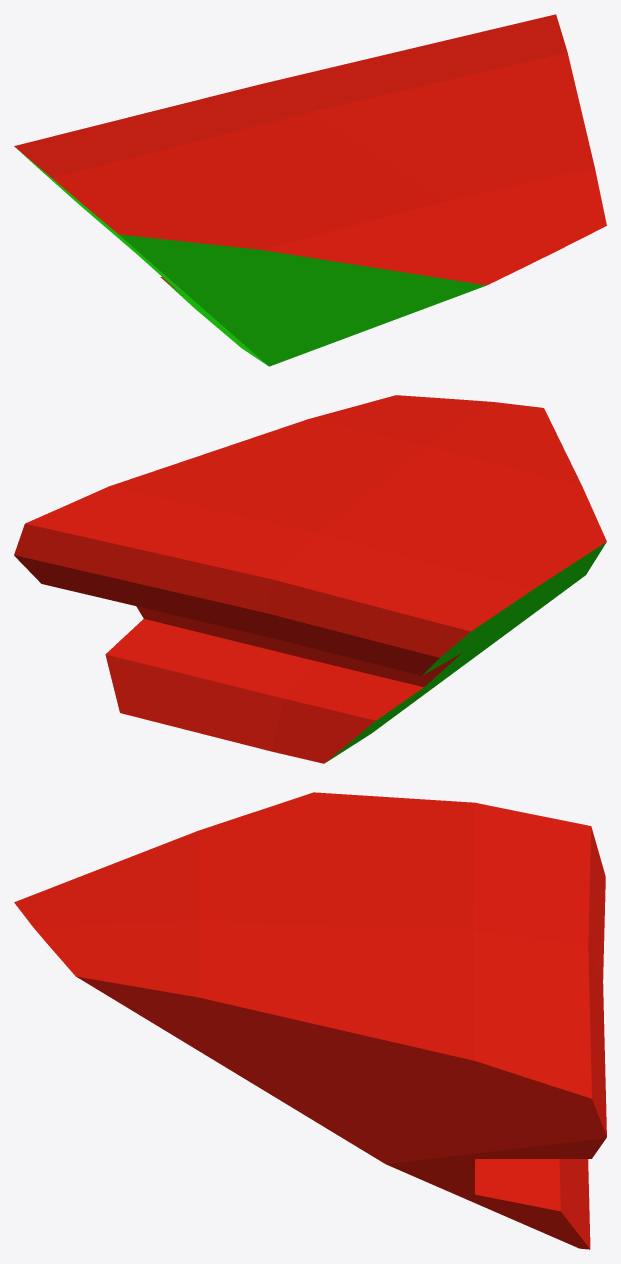
File: SM_Fence1m_Half-Broken_01.021.fbx
The picture shows the model from 3 angles, top to bottom: view 1: azimuth 30°, elevation 25°; view 2: azimuth 150°, elevation 25°; view 3: azimuth 270°, elevation 25°; orthographic projection. The views are drawn at different scales.
Visible parts, largest first — view 1: SM_Fence1m_Half-Broken_01.021; view 2: SM_Fence1m_Half-Broken_01.021; view 3: SM_Fence1m_Half-Broken_01.021.
Part boxes in pixels (x1=…): SM_Fence1m_Half-Broken_01.021: x1=14, y1=14, x2=606, y2=366; SM_Fence1m_Half-Broken_01.021: x1=14, y1=395, x2=606, y2=763; SM_Fence1m_Half-Broken_01.021: x1=14, y1=792, x2=606, y2=1249.
Bounding box in the file's own units: 0.3556 × 0.1364 × 0.3071.
